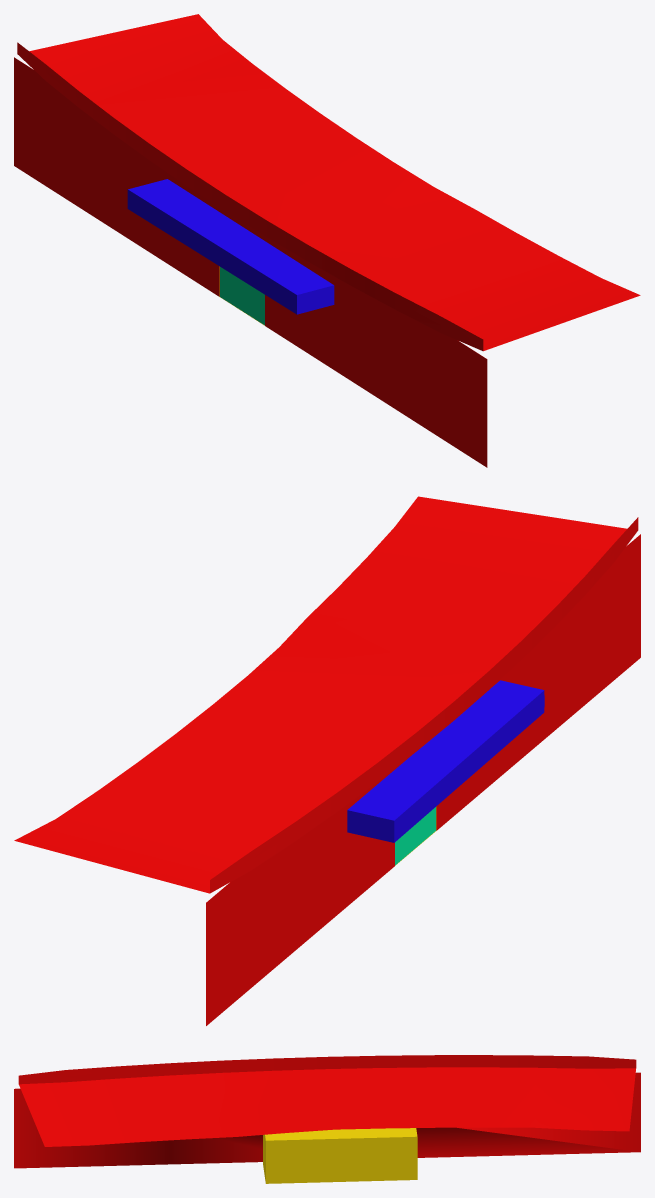
3 renders of one model, top to bottom at view 1: azimuth 30°, elevation 25°; view 2: azimuth 150°, elevation 25°; view 3: azimuth 270°, elevation 25°, orthographic. The views are drawn at different scales.
Visible parts, largest first — view 1: Object001; view 2: Object001; view 3: Object001.
Part boxes in pixels (<box>): Object001: <box>14,14,640,467</box>; Object001: <box>14,496,640,1025</box>; Object001: <box>14,1055,640,1183</box>.
Size of the model in its own units: 3891 by 1944 by 11712.
